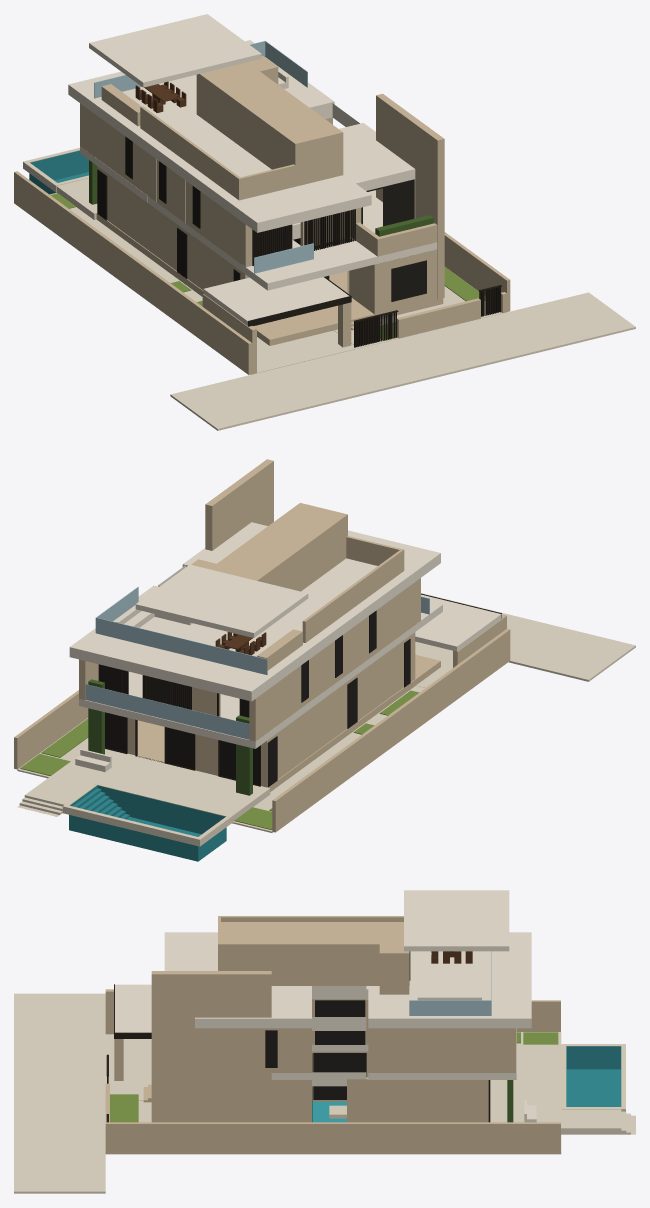
File: villa_v17.glb
3 views of the same model, one above another, from view 1: azimuth 30°, elevation 25°; view 2: azimuth 150°, elevation 25°; view 3: azimuth 270°, elevation 25° (orthographic). The views are drawn at different scales.
Visible parts, largest first — view 1: GROUND_street_verge, RF_core, WALL_side_left, RF_canopy, ROOF_f, STONE_FIN (render-sourced, not on plan), ROOF_r, CARPORT_canopy (render-sourced, not on plan), GF_plinth, SLAB_FF_front_ext, ROOF_fr, GF_multipurpose (+31 smaller); view 2: ROOF_r, WALL_side_left, RF_canopy, RF_core, DECK_rear_strip, GROUND_street_verge, STONE_FIN (render-sourced, not on plan), ROOF_f, RF_balustrade_rear, SLAB_FF_r, FF_balcony_balustrade_glass, GF_rear (+34 smaller); view 3: GROUND_street_verge, STONE_FIN (render-sourced, not on plan), WALL_side_right, RF_core, ROOF_r, RF_canopy, FF_rear, GF_rear, FF_front, DECK_rear_strip, ROOF_fr, ROOF_f (+24 smaller).
Boxes of the visible parts, left/top/right/bottom form: GROUND_street_verge: left=170, top=292, right=635, bottom=430; RF_core: left=196, top=62, right=343, bottom=186; WALL_side_left: left=14, top=171, right=252, bottom=374; RF_canopy: left=89, top=14, right=261, bottom=87; ROOF_f: left=181, top=151, right=371, bottom=232; STONE_FIN (render-sourced, not on plan): left=376, top=93, right=444, bottom=299; ROOF_r: left=68, top=40, right=334, bottom=155; CARPORT_canopy (render-sourced, not on plan): left=203, top=277, right=349, bottom=325; GF_plinth: left=96, top=213, right=443, bottom=345; SLAB_FF_front_ext: left=246, top=241, right=437, bottom=290; ROOF_fr: left=339, top=123, right=415, bottom=190; GF_multipurpose: left=349, top=249, right=437, bottom=314; ROOF_r: left=69, top=585, right=335, bottom=701; WALL_side_left: left=272, top=628, right=510, bottom=832; RF_canopy: left=135, top=564, right=308, bottom=637; RF_core: left=209, top=503, right=347, bottom=591; DECK_rear_strip: left=56, top=749, right=270, bottom=821; GROUND_street_verge: left=421, top=593, right=635, bottom=681; STONE_FIN (render-sourced, not on plan): left=205, top=459, right=273, bottom=550; ROOF_f: left=301, top=530, right=440, bottom=618; RF_balustrade_rear: left=95, top=617, right=267, bottom=674; SLAB_FF_r: left=79, top=671, right=322, bottom=748; FF_balcony_balustrade_glass: left=85, top=684, right=249, bottom=739; GF_rear: left=127, top=702, right=319, bottom=787; GROUND_street_verge: left=14, top=993, right=105, bottom=1193; STONE_FIN (render-sourced, not on plan): left=151, top=971, right=271, bottom=1122; WALL_side_right: left=105, top=1122, right=560, bottom=1154; RF_core: left=218, top=922, right=409, bottom=985; ROOF_r: left=368, top=932, right=531, bottom=1028; RF_canopy: left=404, top=890, right=509, bottom=951; FF_rear: left=368, top=1028, right=488, bottom=1072; GF_rear: left=385, top=1080, right=488, bottom=1122; FF_front: left=204, top=1028, right=311, bottom=1072; DECK_rear_strip: left=490, top=1044, right=561, bottom=1134; ROOF_fr: left=195, top=986, right=311, bottom=1028; ROOF_f: left=164, top=932, right=311, bottom=986.
Bounding box in the file's own units: 30.73 × 13.05 × 40.8.
